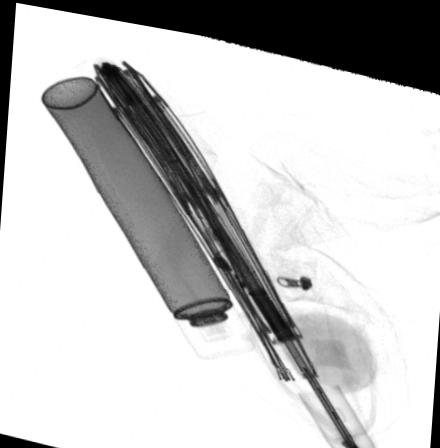Lighter: (295, 371, 380, 448)
Sprayer: (40, 72, 256, 352)
